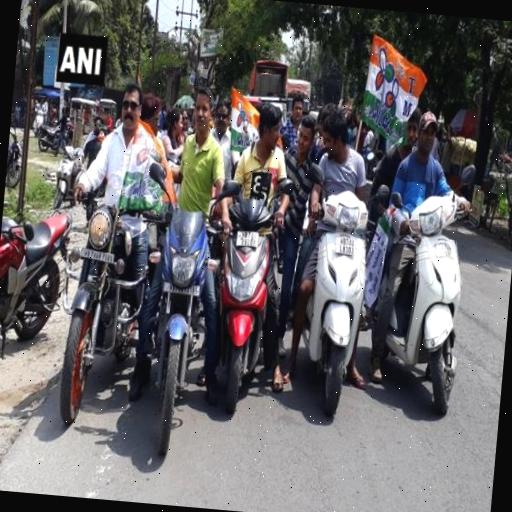no helmet: (365, 106, 486, 476), (282, 95, 382, 432), (68, 60, 162, 418), (151, 72, 230, 427), (220, 88, 294, 404)
